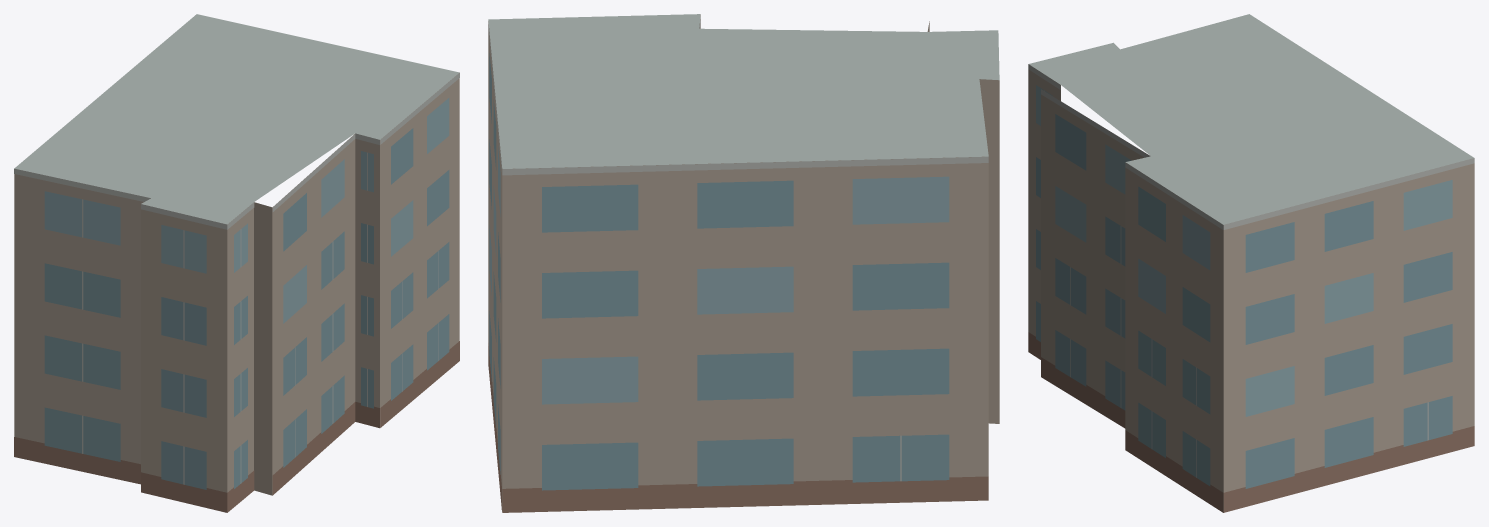
Rendered from survey-upis-32950040.glb.
3 renders of one model, left to right at view 1: azimuth 30°, elevation 25°; view 2: azimuth 150°, elevation 25°; view 3: azimuth 270°, elevation 25°, orthographic. The views are drawn at different scales.
Visible parts, largest first — view 1: survey-upis-32950040.tmp; view 2: survey-upis-32950040.tmp; view 3: survey-upis-32950040.tmp.
Boxes of the visible parts, box(x1,y1,x2,y2) form: survey-upis-32950040.tmp: box(14, 14, 459, 512); survey-upis-32950040.tmp: box(488, 14, 999, 512); survey-upis-32950040.tmp: box(1028, 14, 1474, 512).
Bounding box in the file's own units: 20.74 × 13.2 × 18.54.
